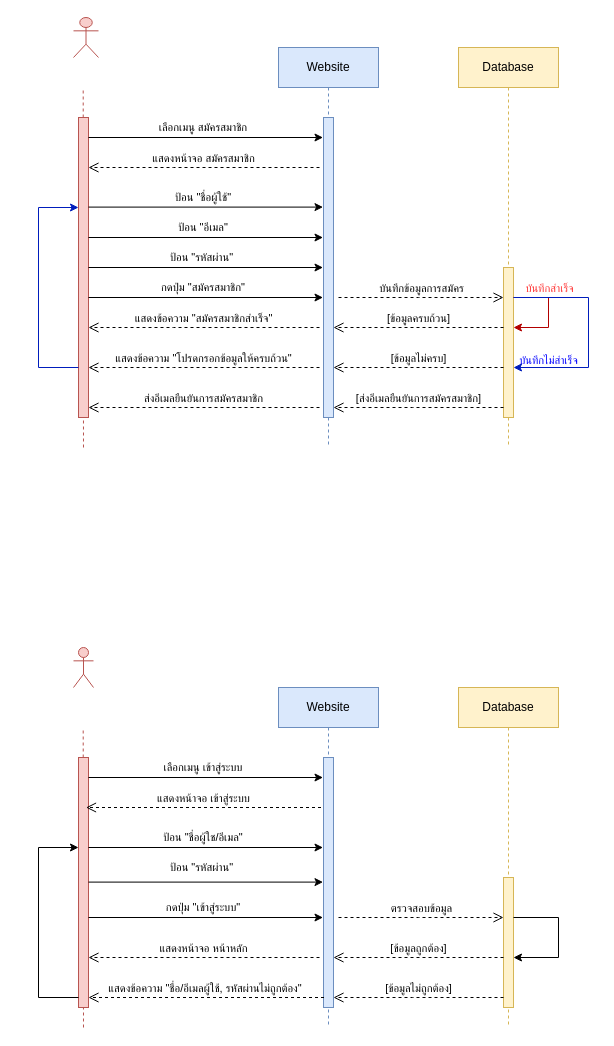
Image size: 614x1046. Some labels were removed from this diagram. Each missing label, with the centre of its shape:
ผู้ดูแลระบบ,ผู้จัดการ,พนักงาน, พนังานการเงิน,ลูกค้า: point (83, 667)
ลูกค้า: point (85, 37)
